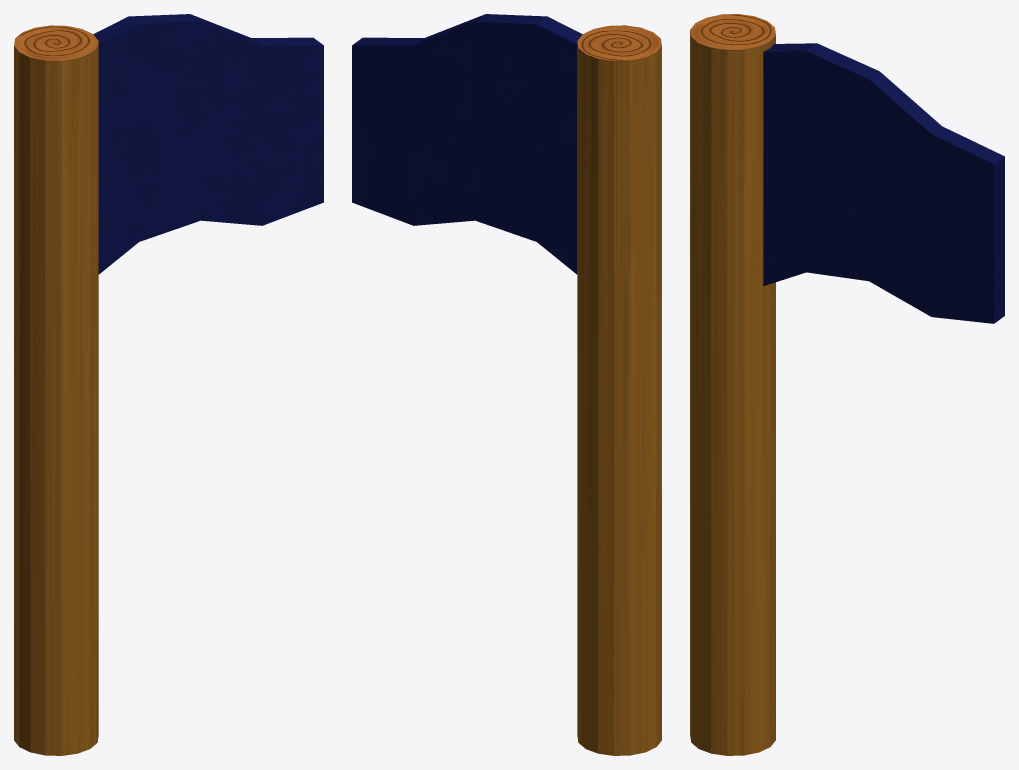
The model's file is Flag.fbx.
3 views of the same model, side by side, from view 1: azimuth 30°, elevation 25°; view 2: azimuth 150°, elevation 25°; view 3: azimuth 330°, elevation 25° (orthographic).
Parts seen in each view (by area): view 1: post, flag; view 2: post, flag; view 3: post, flag.
Boxes of the visible parts, x1,y1,x2,y2 form: post: [14, 25, 98, 755]; flag: [93, 14, 323, 274]; post: [577, 25, 661, 755]; flag: [352, 14, 582, 274]; post: [690, 14, 775, 755]; flag: [763, 43, 1004, 323].
Size of the model in its own units: 243 by 542 by 60.
